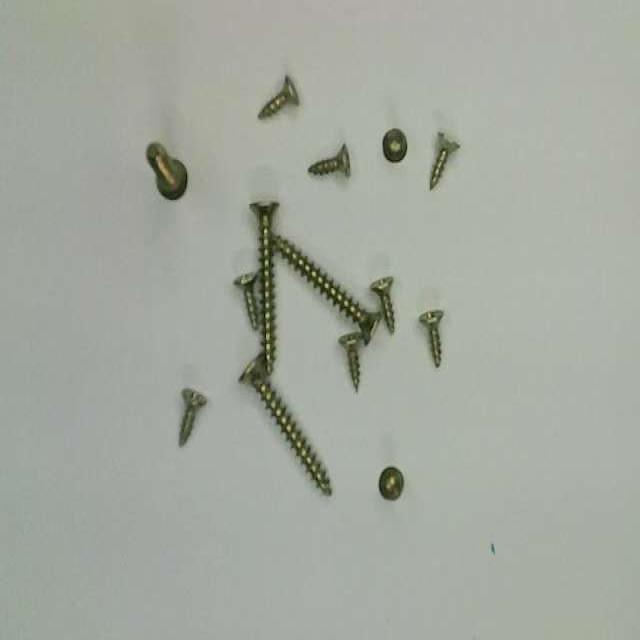Parafuso: (239, 353, 331, 492), (267, 232, 379, 343), (250, 203, 278, 373), (146, 143, 187, 199), (259, 75, 299, 117), (430, 132, 459, 189), (180, 389, 206, 445), (338, 332, 362, 391), (419, 309, 443, 365), (370, 277, 394, 332), (234, 272, 257, 329), (308, 144, 350, 173), (382, 129, 406, 161), (380, 467, 403, 499)
